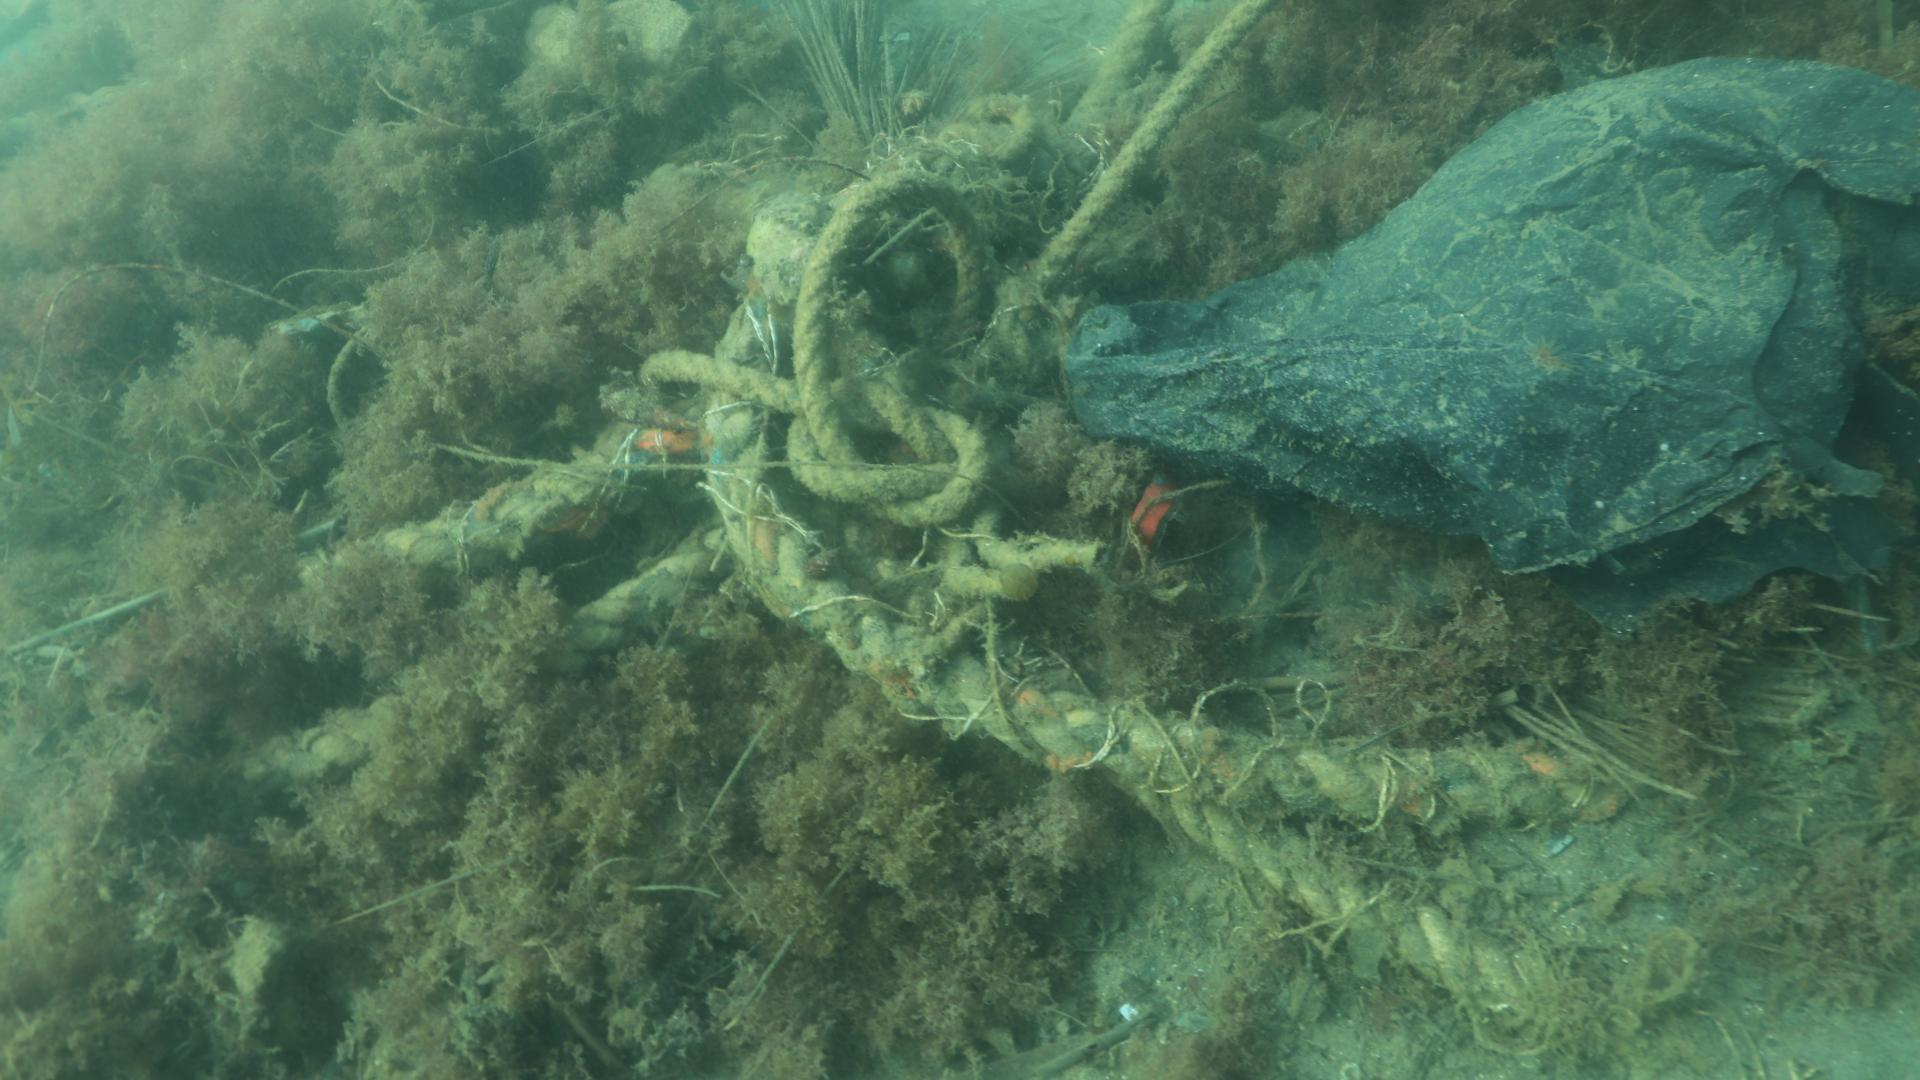bundle of ropes: (392, 0, 1571, 1019)
